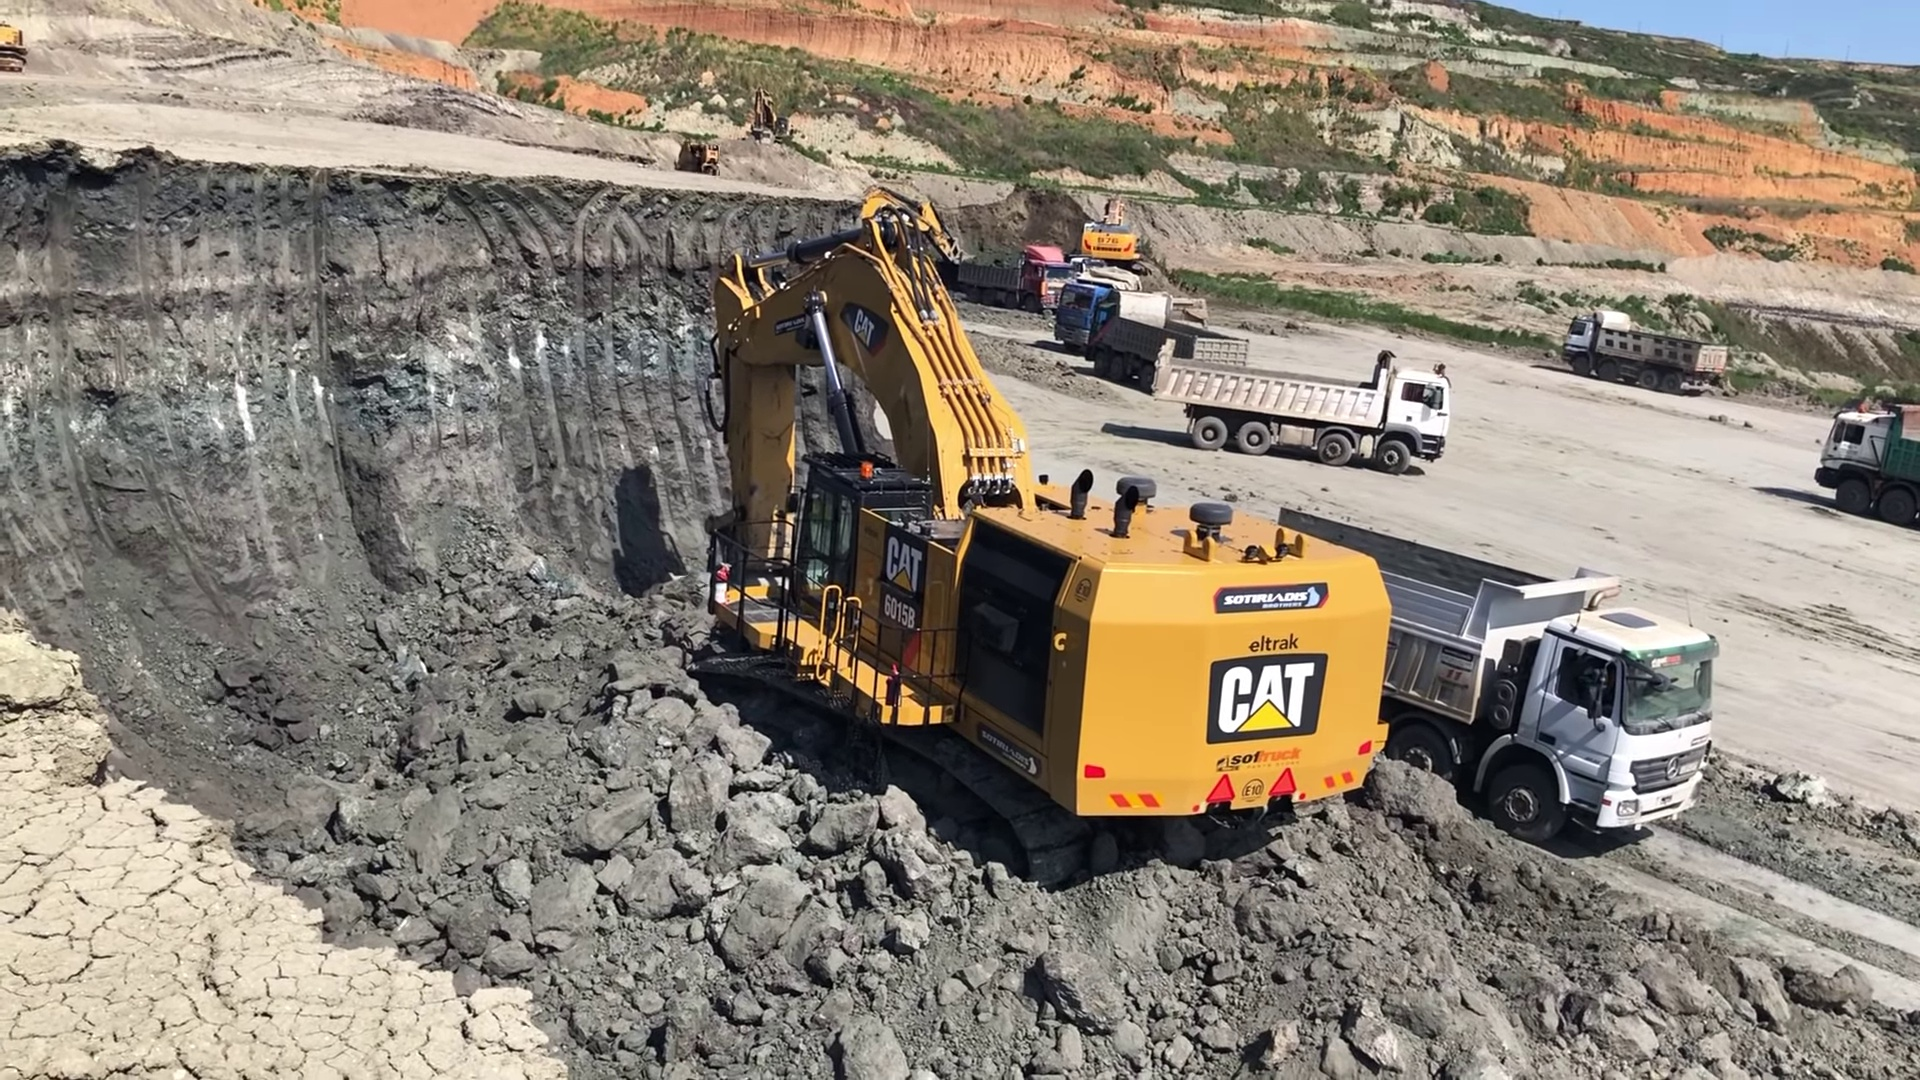excavator: (684, 186, 1389, 818), (1075, 194, 1147, 258)
truck: (1284, 502, 1714, 847), (1153, 340, 1453, 481), (1565, 309, 1724, 392), (1101, 294, 1247, 382), (1809, 401, 1920, 517), (1062, 282, 1205, 338), (959, 237, 1054, 297)
